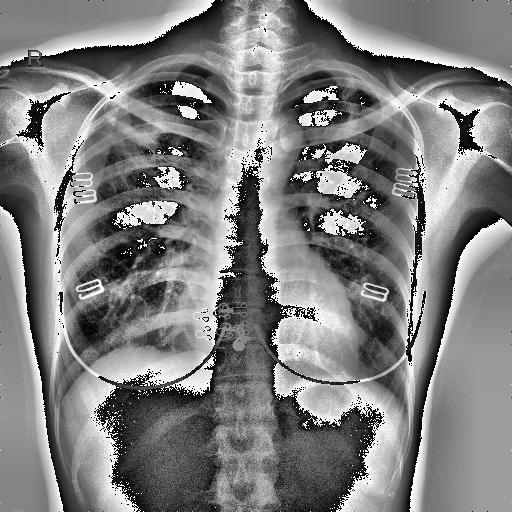0- Aortic enlargement: (250, 113, 302, 164)
1- Atelectasis: (100, 113, 158, 170)
13- Pulmonary fibrosis: (93, 84, 163, 158), (100, 114, 159, 177), (100, 113, 158, 170), (334, 76, 367, 126), (342, 76, 360, 134), (340, 82, 362, 124)
